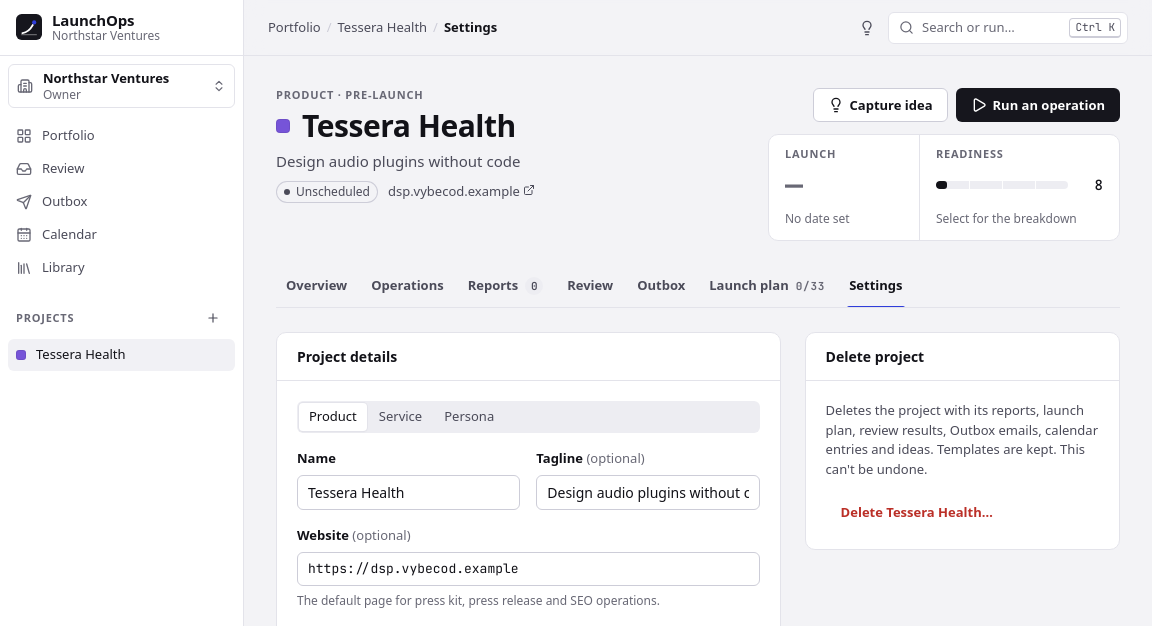
it: Deleting a project › requires typing the name, then returns to the portfolio
Click the button "Delete Tessera Health…" at (917,512), box [826,495,1008,529]
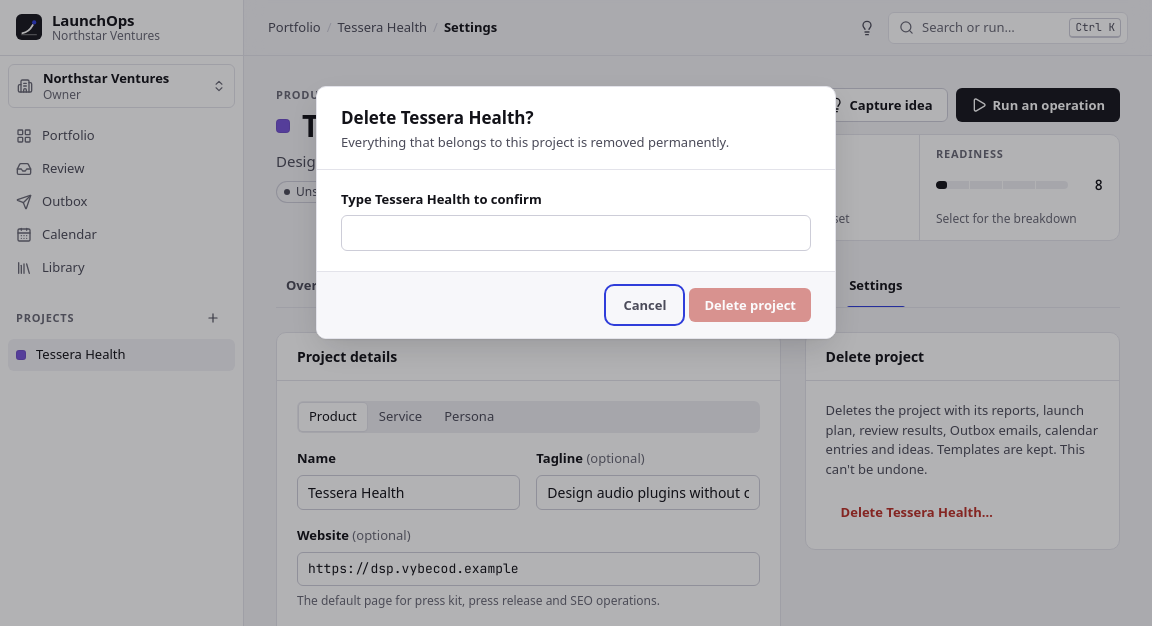
Expected: the button "Delete project" is disabled, [690,288,811,322]
Type "Tessera Health" into the field labelled "Type Tessera Health to confirm" at (576,233), box [341,216,811,251]
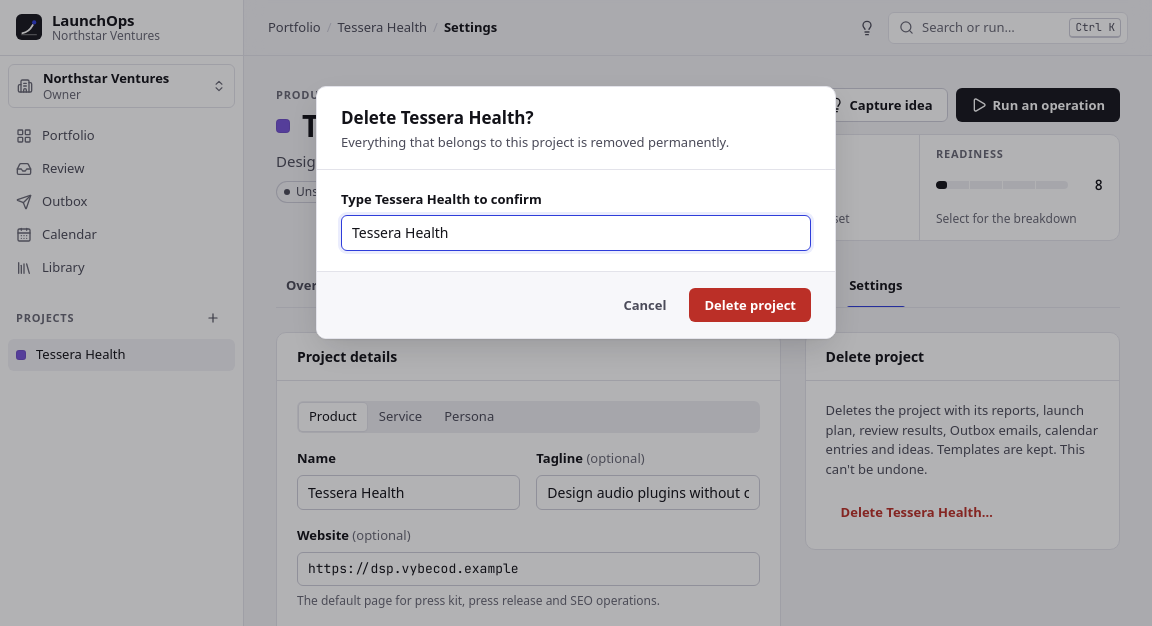
Click the button "Delete project" at (750,305), box [690,288,811,322]
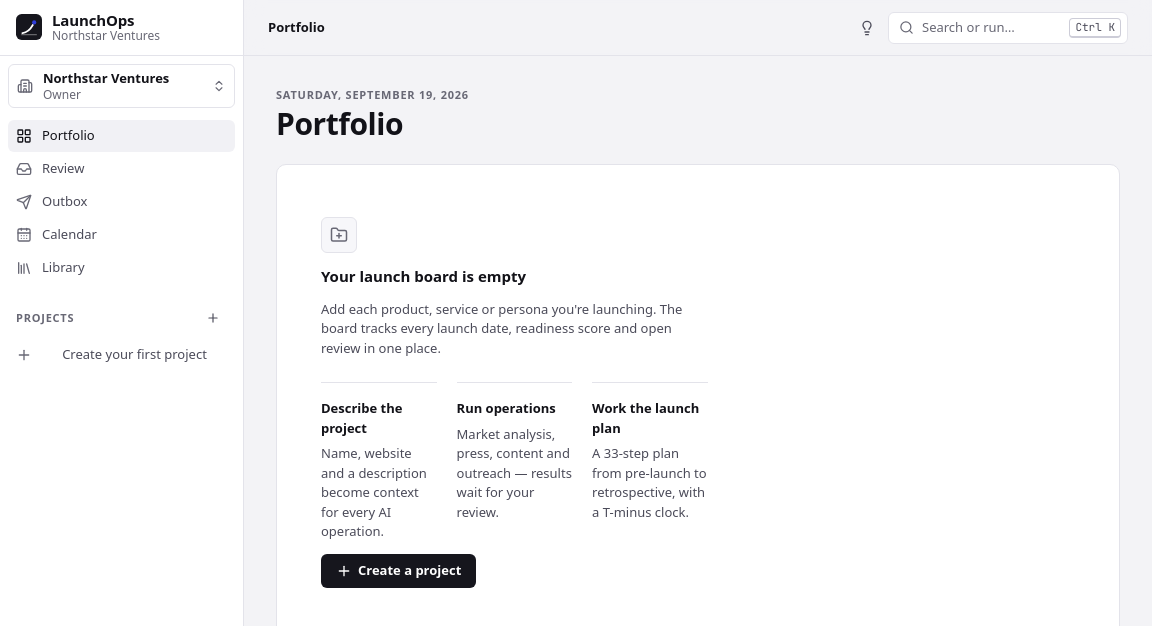
Expected: the heading "Portfolio" is shown, [276,103,403,144]
